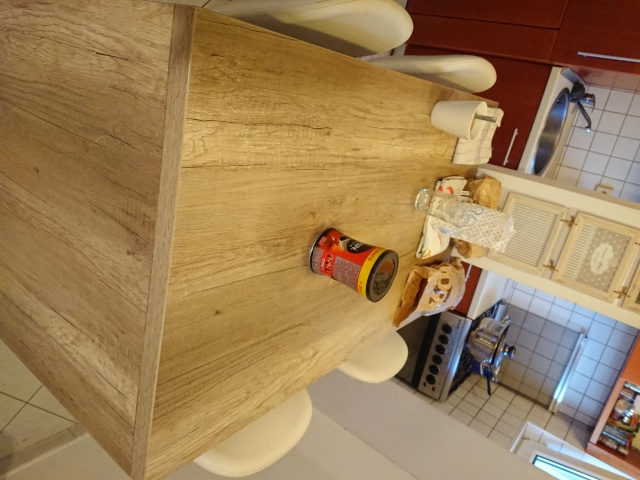Nescafe Classic 225g: (306, 225, 401, 304)
